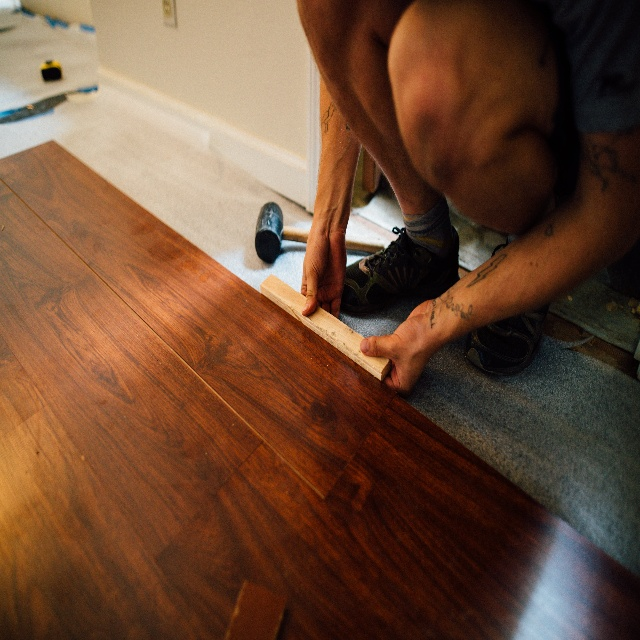Sin_guantes: (359, 294, 436, 396), (300, 224, 348, 322)
